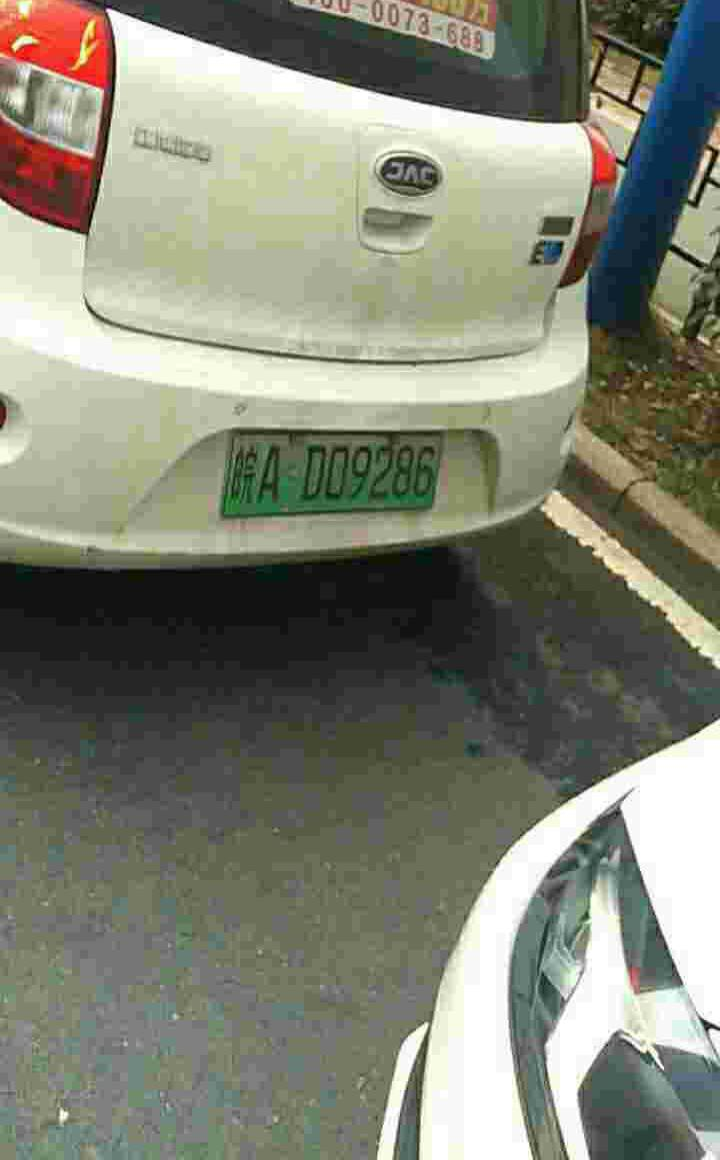car: (223, 430, 459, 514)
